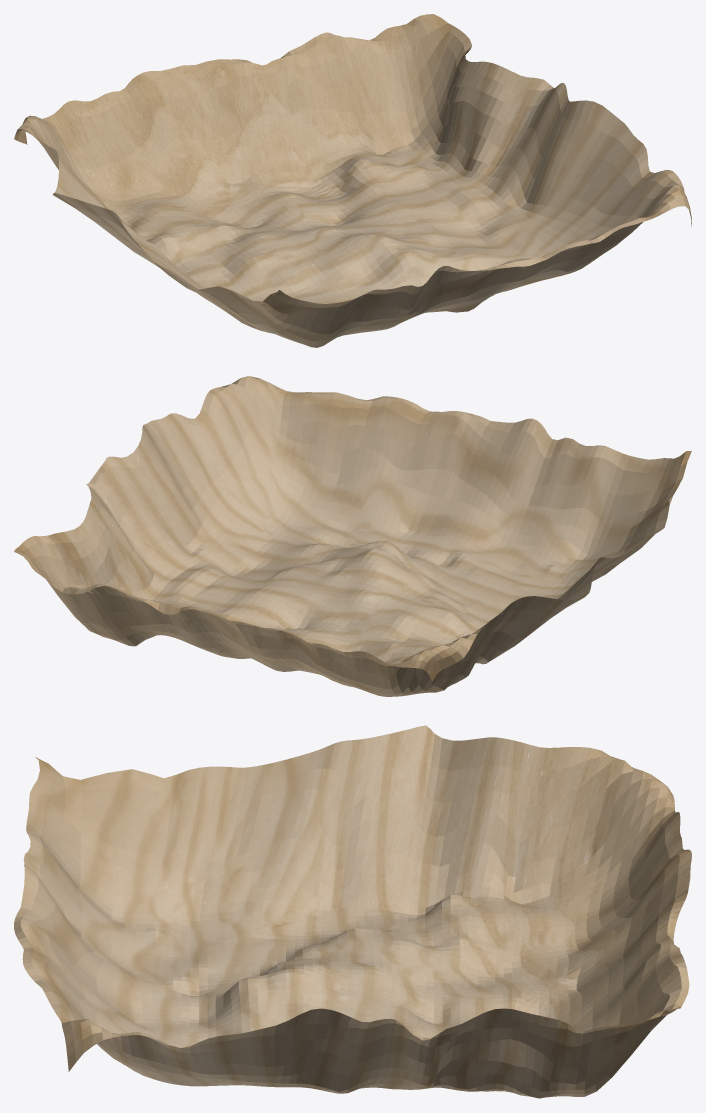
Rendered from terrain2.gltf.
3 renders of one model, top to bottom at view 1: azimuth 30°, elevation 25°; view 2: azimuth 150°, elevation 25°; view 3: azimuth 270°, elevation 25°, orthographic. The views are drawn at different scales.
Parts seen in each view (by area): view 1: Plane; view 2: Plane; view 3: Plane.
Part boxes in pixels (x1,y1,x2,y2): Plane: (14, 14, 691, 347); Plane: (14, 376, 691, 696); Plane: (14, 725, 691, 1098).
Bounding box in the file's own units: 508 × 109 × 489.
Materials: 1 (1 with a texture image).
